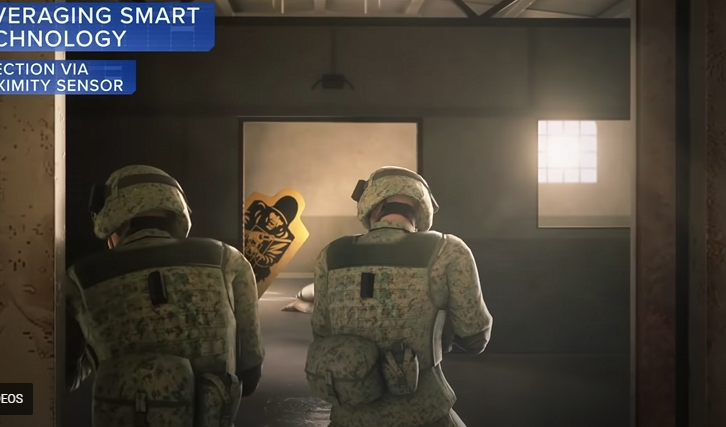HVT1: (244, 186, 310, 296)
